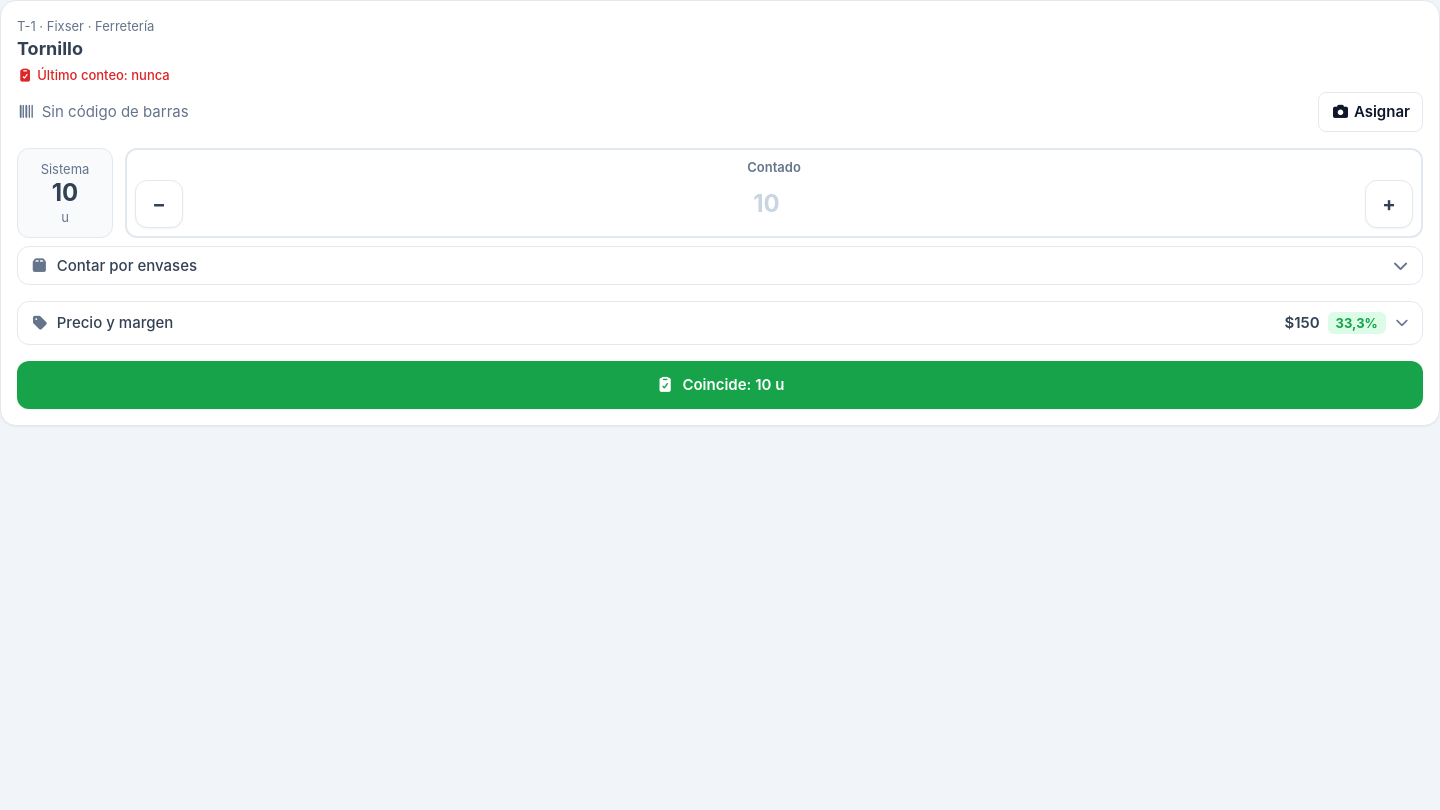
Test: components/ProductoCard › conteo › contar por envases: suma cajas × factor + sueltas y lo pasa a "Contado"
Click the button "Contar por envases": (127, 265) x1=18 y1=247 x2=1422 y2=284
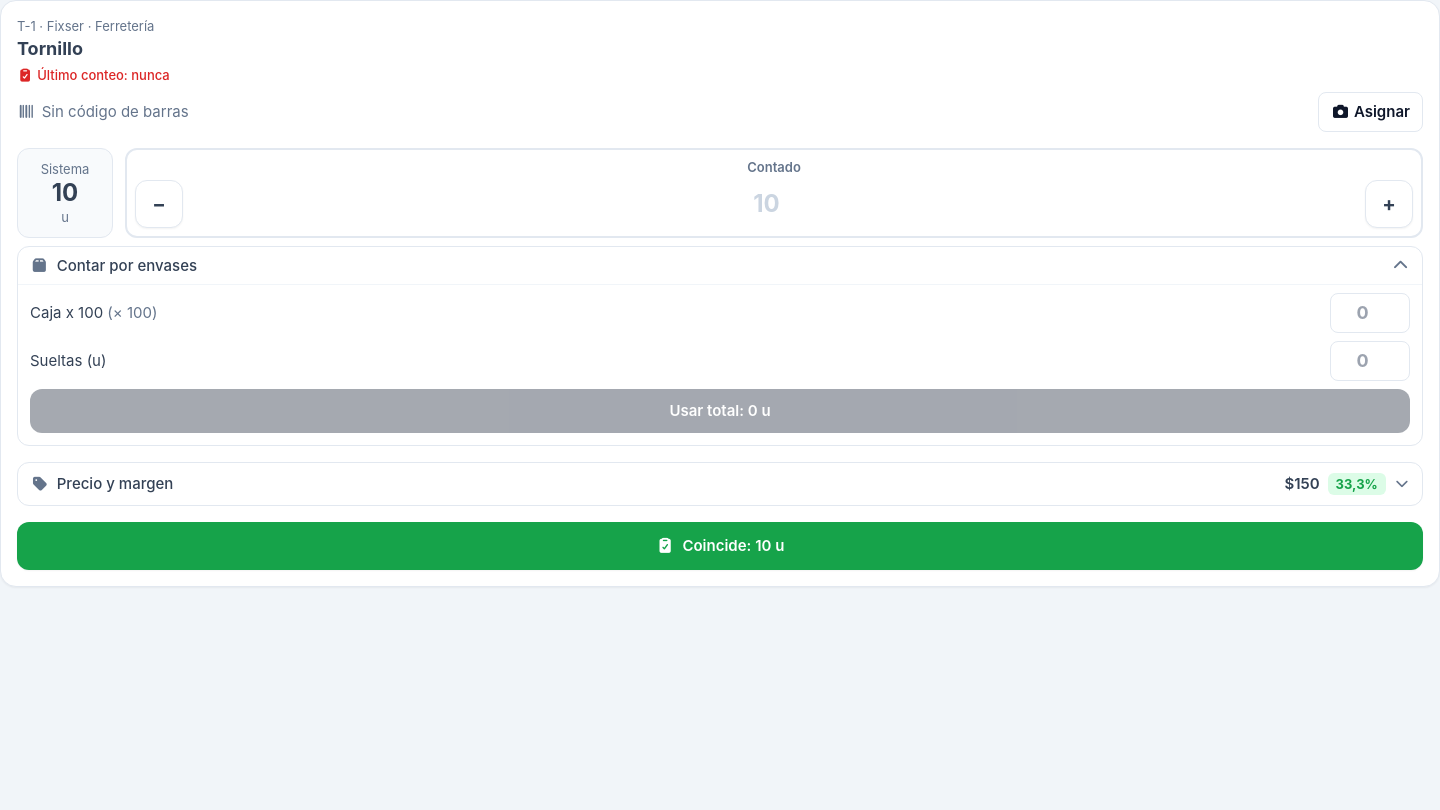
In the number field with id "envase-9": (1370, 313) x1=1330 y1=293 x2=1410 y2=333, type "4"
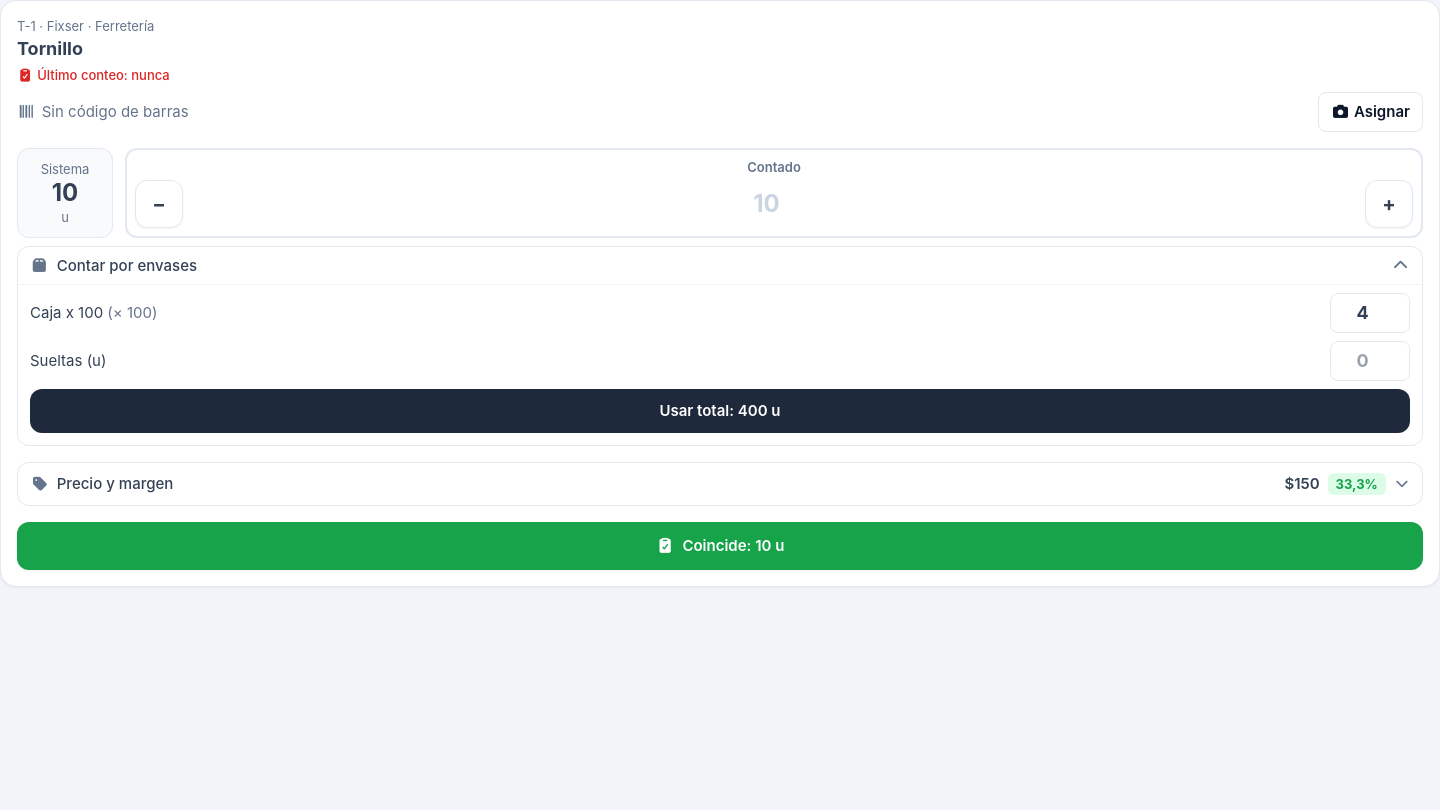
In the number field with id "envase-sueltas": (1370, 361) x1=1330 y1=341 x2=1410 y2=381, type "12"
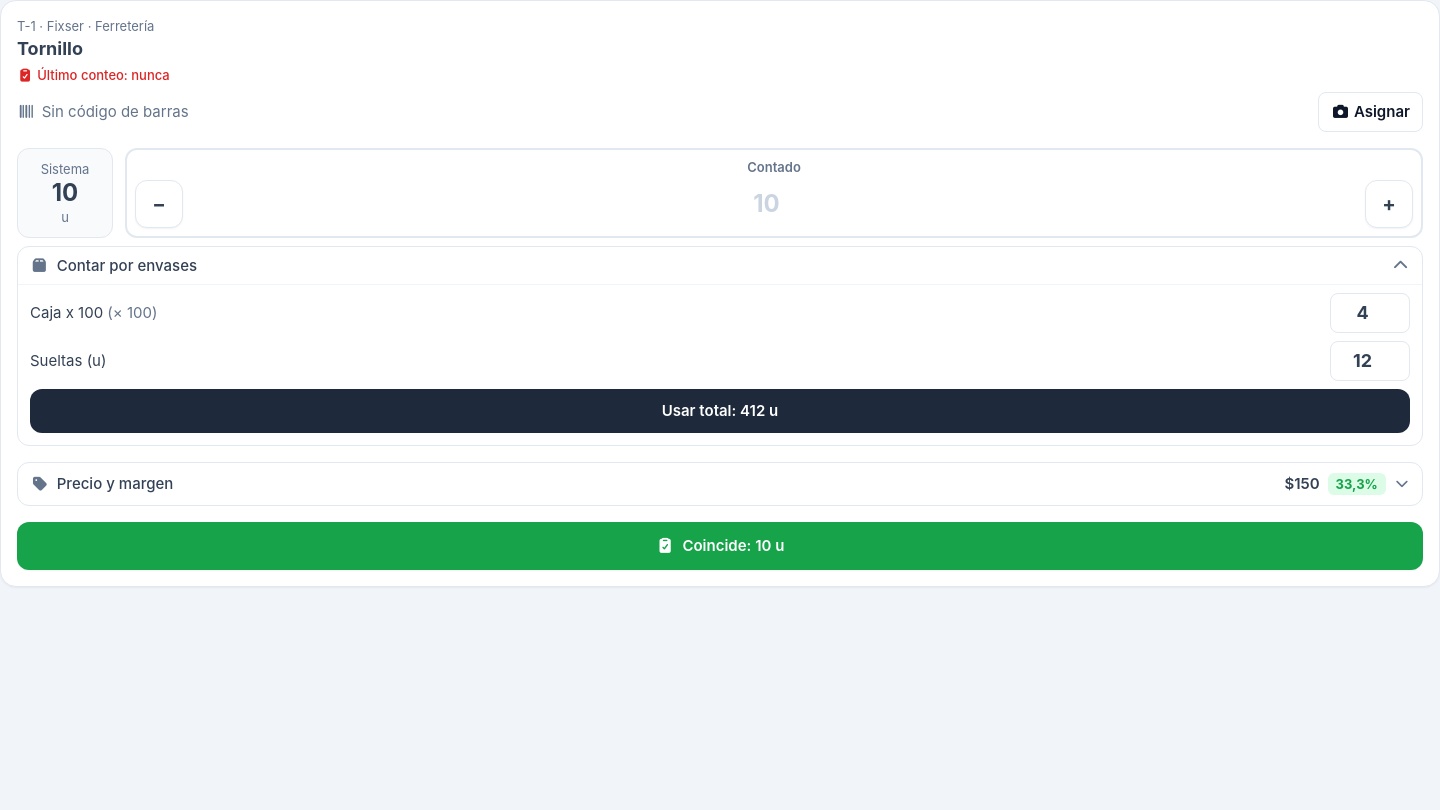
Expected: the button "Usar total: 412 u" is shown
Click the button "Usar total: 412 u": (720, 411) x1=30 y1=389 x2=1410 y2=433
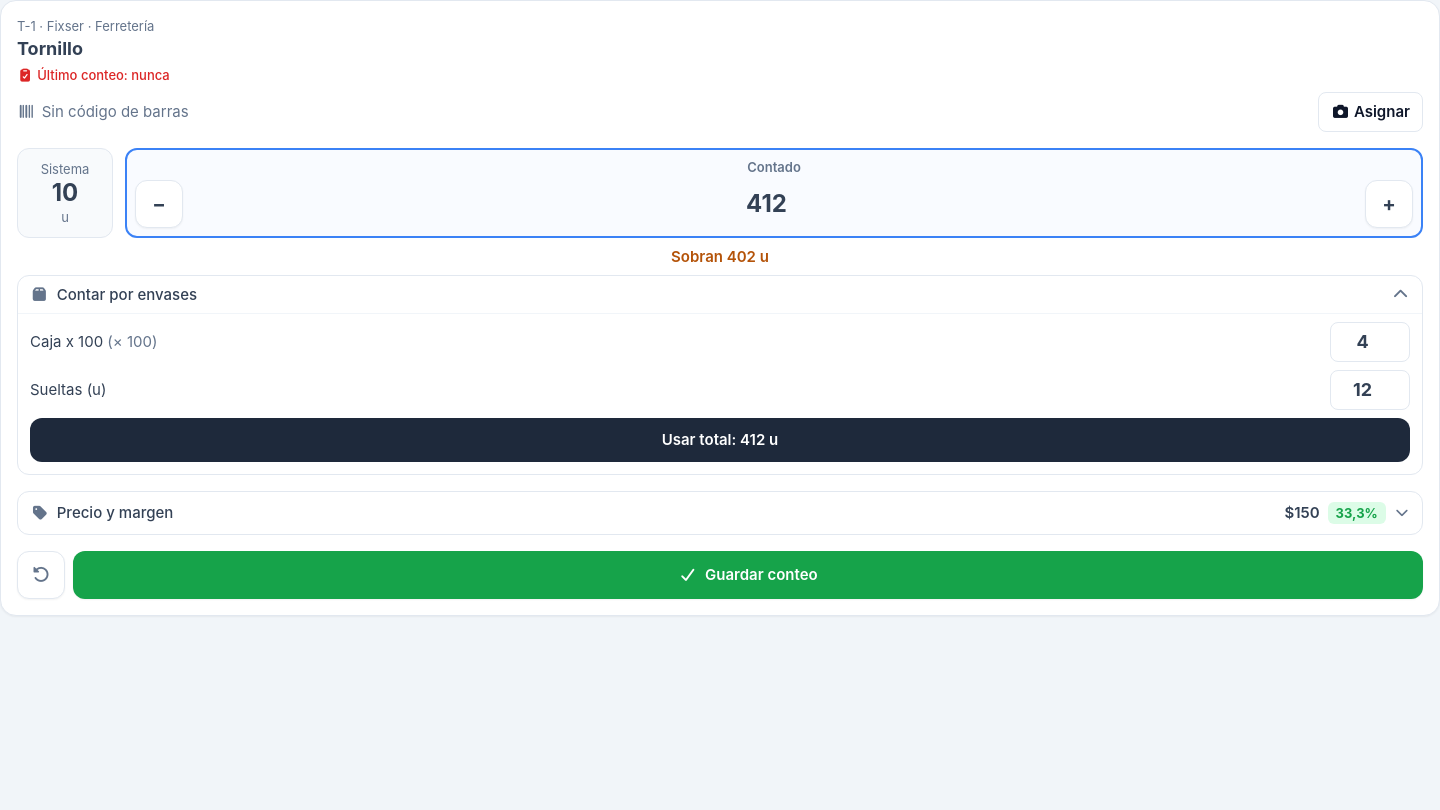
Expected: the number field named "Stock contado" holds "412", x1=191 y1=180 x2=1357 y2=228
